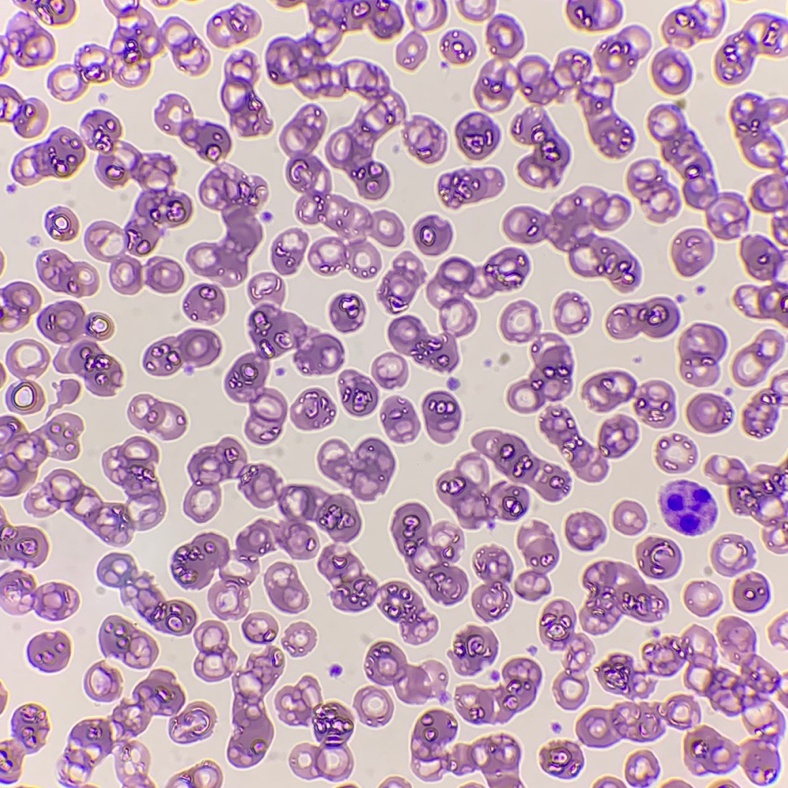RBC: (172, 438, 360, 618), (474, 0, 632, 186), (266, 0, 402, 198), (642, 617, 781, 783), (280, 106, 403, 277), (84, 110, 191, 293), (388, 248, 528, 370), (225, 304, 342, 444), (61, 670, 215, 771), (47, 7, 209, 100), (25, 437, 164, 543), (503, 186, 638, 291), (648, 100, 747, 238), (438, 430, 567, 528), (187, 170, 267, 286), (411, 710, 520, 787), (97, 553, 195, 634), (38, 301, 121, 395), (705, 456, 787, 551), (275, 677, 352, 778), (501, 301, 571, 412), (392, 503, 467, 603), (540, 408, 637, 481), (227, 647, 283, 766), (0, 414, 81, 496), (731, 94, 787, 212), (580, 561, 667, 633), (576, 695, 697, 746), (539, 600, 589, 709), (455, 658, 540, 722), (582, 371, 673, 427), (365, 642, 447, 703), (715, 13, 786, 83), (155, 95, 230, 161), (318, 438, 394, 500), (221, 53, 271, 135), (13, 128, 84, 184), (0, 571, 78, 619), (318, 547, 377, 610), (0, 704, 47, 781), (143, 329, 220, 375), (381, 582, 437, 643), (517, 522, 558, 599), (627, 160, 677, 221), (595, 26, 650, 81), (99, 616, 157, 668), (472, 547, 512, 620), (679, 323, 725, 386), (607, 297, 677, 338), (733, 330, 782, 386), (37, 250, 97, 295), (661, 480, 712, 532), (128, 394, 185, 439), (381, 252, 423, 313), (438, 168, 503, 206), (5, 16, 54, 66), (0, 85, 47, 137), (735, 282, 787, 325), (598, 654, 650, 696), (194, 621, 231, 680), (207, 5, 260, 46), (451, 626, 496, 674), (264, 562, 307, 612), (455, 113, 499, 159), (0, 282, 40, 331), (422, 391, 460, 442), (404, 117, 446, 162), (0, 524, 47, 563), (741, 237, 784, 279), (672, 229, 711, 275), (291, 389, 335, 429), (637, 537, 679, 578), (687, 393, 731, 432), (339, 370, 377, 415), (743, 389, 779, 436), (652, 50, 690, 93), (381, 397, 418, 441), (271, 229, 307, 274), (712, 535, 752, 575), (28, 633, 69, 671), (663, 7, 707, 42), (565, 513, 605, 550), (183, 284, 224, 320), (7, 340, 48, 376), (413, 216, 451, 254), (657, 434, 695, 472), (354, 687, 392, 725), (541, 742, 582, 776), (16, 0, 74, 23), (556, 293, 589, 333), (84, 665, 120, 700), (733, 574, 767, 611), (330, 295, 364, 331), (372, 353, 407, 387), (685, 581, 719, 616), (625, 751, 658, 784), (10, 381, 43, 413), (613, 501, 645, 534), (396, 33, 426, 68), (46, 207, 77, 240), (283, 623, 314, 656), (566, 0, 600, 30), (242, 613, 277, 642), (248, 273, 284, 301), (443, 33, 475, 62), (58, 380, 79, 403), (124, 774, 152, 787), (183, 769, 201, 787), (434, 0, 446, 23), (606, 10, 621, 27), (773, 216, 787, 230), (769, 626, 779, 641), (667, 781, 687, 787), (277, 0, 296, 6), (0, 691, 6, 708), (717, 781, 734, 787), (779, 692, 787, 704), (449, 379, 458, 387), (211, 767, 219, 776), (0, 370, 4, 381), (615, 783, 624, 787), (783, 47, 787, 55), (401, 783, 409, 787)
